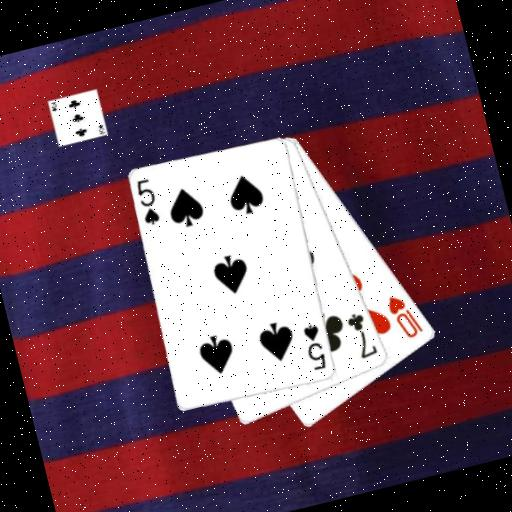10H: (383, 288, 428, 345)
5S: (298, 320, 330, 374), (132, 175, 164, 229)
7C: (343, 308, 381, 363)
